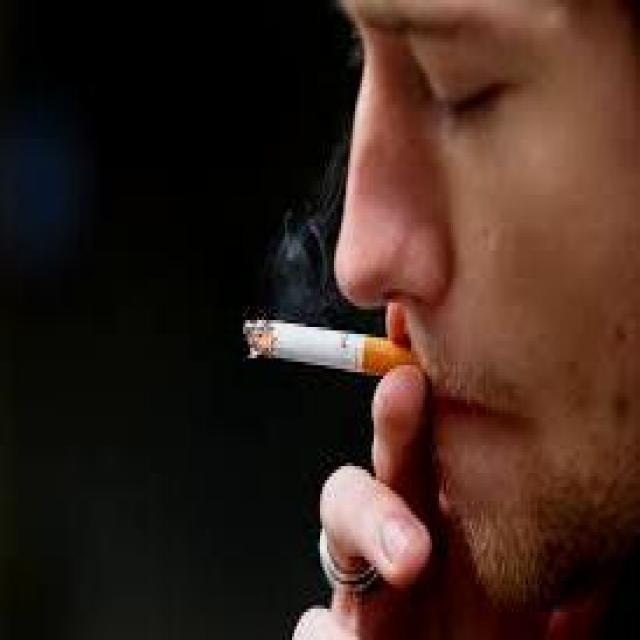smoke: (240, 309, 420, 396)
